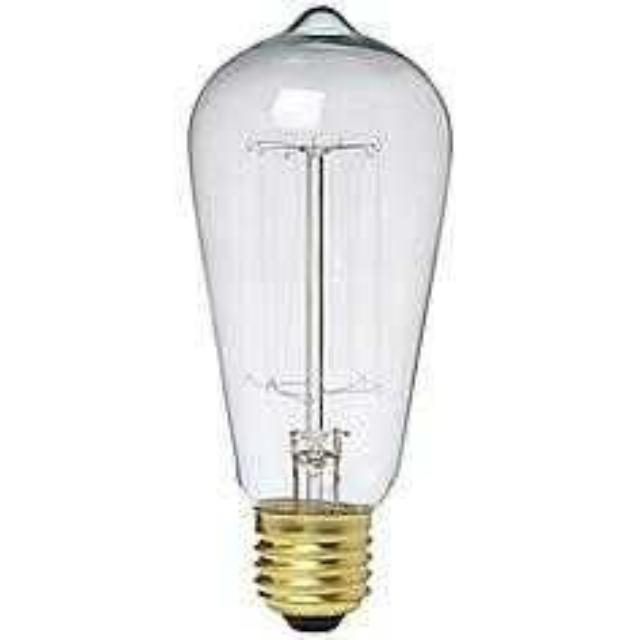light_bulb: (181, 5, 455, 640)
